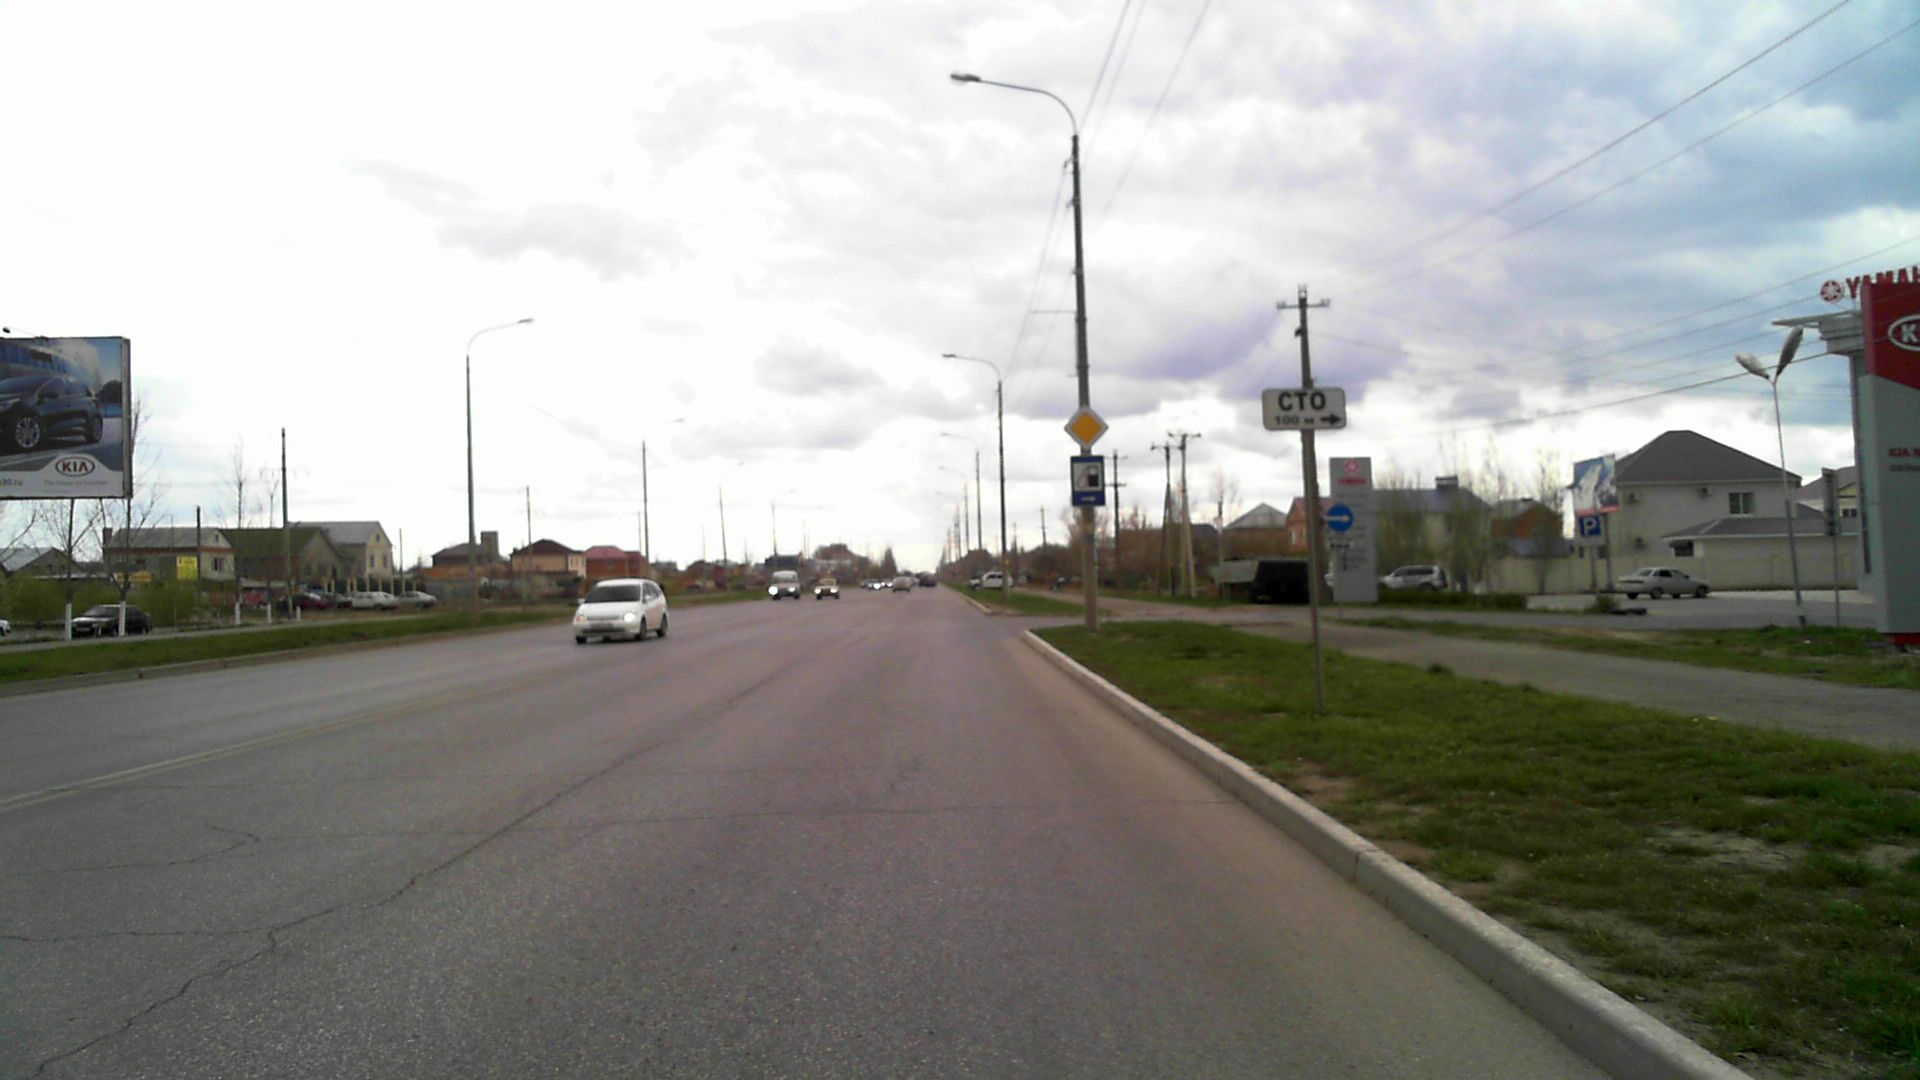Turn Right: (1325, 504, 1354, 533)
